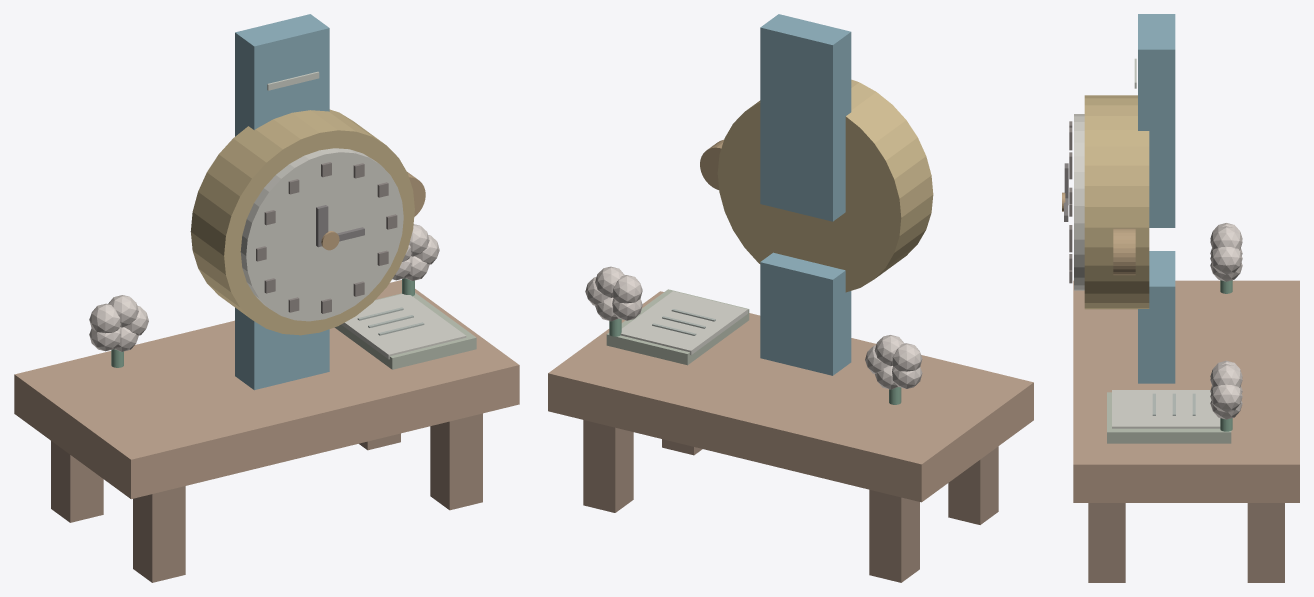
File: watch_display_v2.glb
3 views of the same model, side by side, from view 1: azimuth 30°, elevation 25°; view 2: azimuth 150°, elevation 25°; view 3: azimuth 270°, elevation 25° (orthographic). The views are drawn at different scales.
Parts seen in each view (by area): view 1: ToyWoodDisplayDesk, DialIvory, WatchGoldBezel, StrapUpper, StrapLower, DisplayLeg-0.670.32, DisplayLeg0.670.32, NotebookPages, DisplayLeg-0.67-0.32, Notebook, Petal0_2; view 2: ToyWoodDisplayDesk, WatchGoldBezel, StrapUpper, StrapLower, NotebookPages, DisplayLeg-0.67-0.32, DisplayLeg0.67-0.32, DisplayLeg-0.670.32, Notebook, Crown, Petal0_2, Petal1_2; view 3: ToyWoodDisplayDesk, WatchGoldBezel, StrapUpper, StrapLower, NotebookPages, DisplayLeg0.67-0.32, DisplayLeg0.670.32, Notebook, DialIvory, Crown, Petal0_0, Petal1_0 (+2 smaller).
Part boxes in pixels (x1,y1,x2,y2): ToyWoodDisplayDesk: (14,280,519,499); DialIvory: (240,148,403,321); WatchGoldBezel: (190,109,414,335); StrapUpper: (235,14,329,136); StrapLower: (235,307,329,390); DisplayLeg-0.670.32: (133,486,185,582); DisplayLeg0.670.32: (430,413,482,510); NotebookPages: (341,294,466,359); DisplayLeg-0.67-0.32: (51,441,103,522); Notebook: (334,293,476,369); Petal0_2: (89,303,120,333); ToyWoodDisplayDesk: (548,291,1033,502); WatchGoldBezel: (717,79,933,292); StrapUpper: (760,14,851,221); StrapLower: (760,252,851,375); NotebookPages: (620,291,747,354); DisplayLeg-0.67-0.32: (869,489,919,582); DisplayLeg0.67-0.32: (583,420,633,512); DisplayLeg-0.670.32: (948,446,998,524); Notebook: (606,289,749,365); Crown: (700,139,723,189); Petal0_2: (892,343,922,371); Petal1_2: (612,275,642,303); ToyWoodDisplayDesk: (1073,280,1299,502); WatchGoldBezel: (1084,95,1149,309); StrapUpper: (1138,14,1175,227); StrapLower: (1138,251,1175,383); NotebookPages: (1112,390,1220,428); DisplayLeg0.67-0.32: (1247,503,1284,582); DisplayLeg0.670.32: (1088,503,1125,582); Notebook: (1107,392,1231,443); DialIvory: (1074,114,1084,290); Crown: (1113,228,1135,275); Petal0_0: (1210,247,1242,274); Petal1_0: (1210,384,1242,412).
Bounding box in the file's own units: 1.75 × 2.1 × 0.9555.
